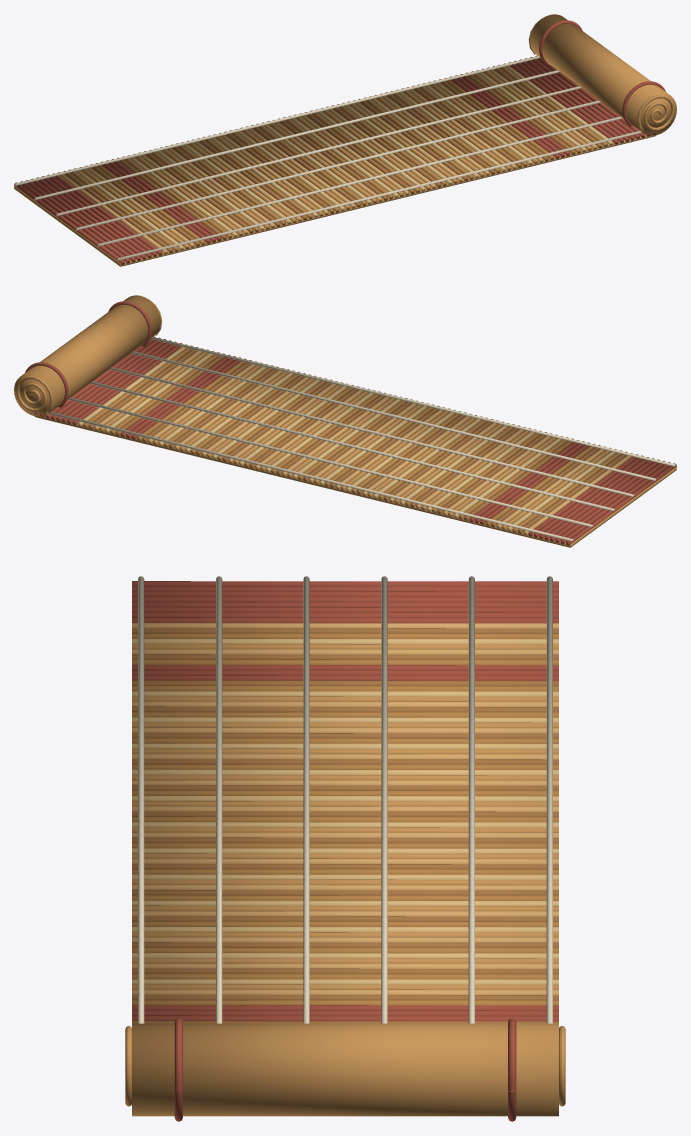
File: rollable-reed-mat.glb
3 renders of one model, top to bottom at view 1: azimuth 30°, elevation 25°; view 2: azimuth 150°, elevation 25°; view 3: azimuth 270°, elevation 25°, orthographic. The views are drawn at different scales.
Parts seen in each view (by area): view 1: woven binding, woven reeds 6, woven reeds 5, woven reeds 1, woven reeds 2, woven reeds 4, woven reeds 3, rolled spiral, reed backing, rolled dyed bands; view 2: woven binding, woven reeds 6, woven reeds 5, woven reeds 1, woven reeds 2, woven reeds 4, woven reeds 3, rolled spiral, reed backing, rolled dyed bands; view 3: rolled spiral, woven reeds 1, woven reeds 5, woven reeds 2, woven reeds 3, woven reeds 4, woven reeds 6, woven binding, rolled dyed bands.
Part boxes in pixels (x1=…): woven binding: x1=15, y1=56, x2=641, y2=260; woven reeds 6: x1=14, y1=55, x2=655, y2=264; woven reeds 5: x1=69, y1=64, x2=607, y2=251; woven reeds 1: x1=63, y1=66, x2=602, y2=253; woven reeds 2: x1=58, y1=67, x2=597, y2=254; woven reeds 4: x1=74, y1=63, x2=613, y2=250; woven reeds 3: x1=79, y1=68, x2=591, y2=249; rolled spiral: x1=528, y1=14, x2=676, y2=135; reed backing: x1=14, y1=134, x2=655, y2=266; rolled dyed bands: x1=539, y1=20, x2=665, y2=126; woven binding: x1=49, y1=337, x2=675, y2=541; woven reeds 6: x1=34, y1=336, x2=676, y2=545; woven reeds 5: x1=83, y1=345, x2=621, y2=532; woven reeds 1: x1=88, y1=347, x2=627, y2=533; woven reeds 2: x1=93, y1=348, x2=632, y2=534; woven reeds 4: x1=77, y1=344, x2=616, y2=531; woven reeds 3: x1=99, y1=349, x2=611, y2=529; rolled spiral: x1=14, y1=295, x2=162, y2=416; reed backing: x1=35, y1=415, x2=676, y2=547; rolled dyed bands: x1=25, y1=301, x2=151, y2=407; rolled spiral: x1=125, y1=1023, x2=565, y2=1116; woven reeds 1: x1=132, y1=628, x2=558, y2=1023; woven reeds 5: x1=132, y1=633, x2=558, y2=1005; woven reeds 2: x1=132, y1=623, x2=558, y2=995; woven reeds 3: x1=132, y1=644, x2=558, y2=989; woven reeds 4: x1=132, y1=638, x2=558, y2=984; woven reeds 6: x1=132, y1=581, x2=558, y2=1021; woven binding: x1=138, y1=576, x2=552, y2=1023; rolled dyed bands: x1=174, y1=1018, x2=516, y2=1121.
Size of the model in its own units: 6.95 by 0.56 by 2.37.
